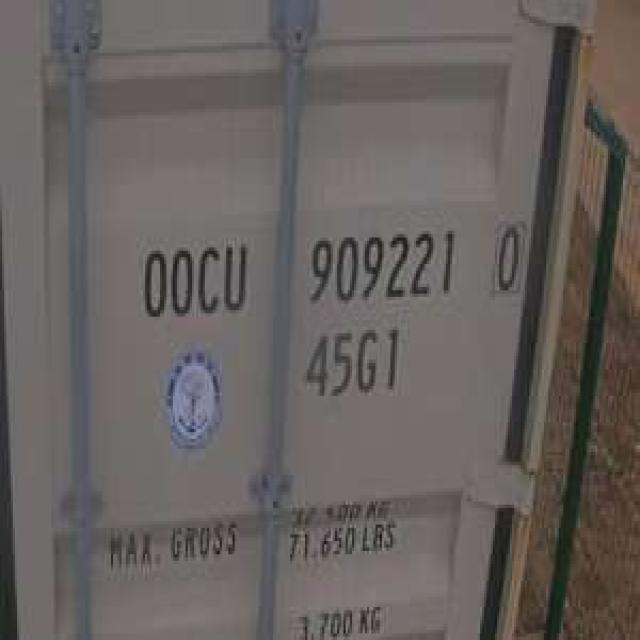dv: (488, 212, 527, 304)
owner: (136, 231, 254, 327)
serial: (301, 218, 461, 310)
size: (296, 316, 406, 406)
